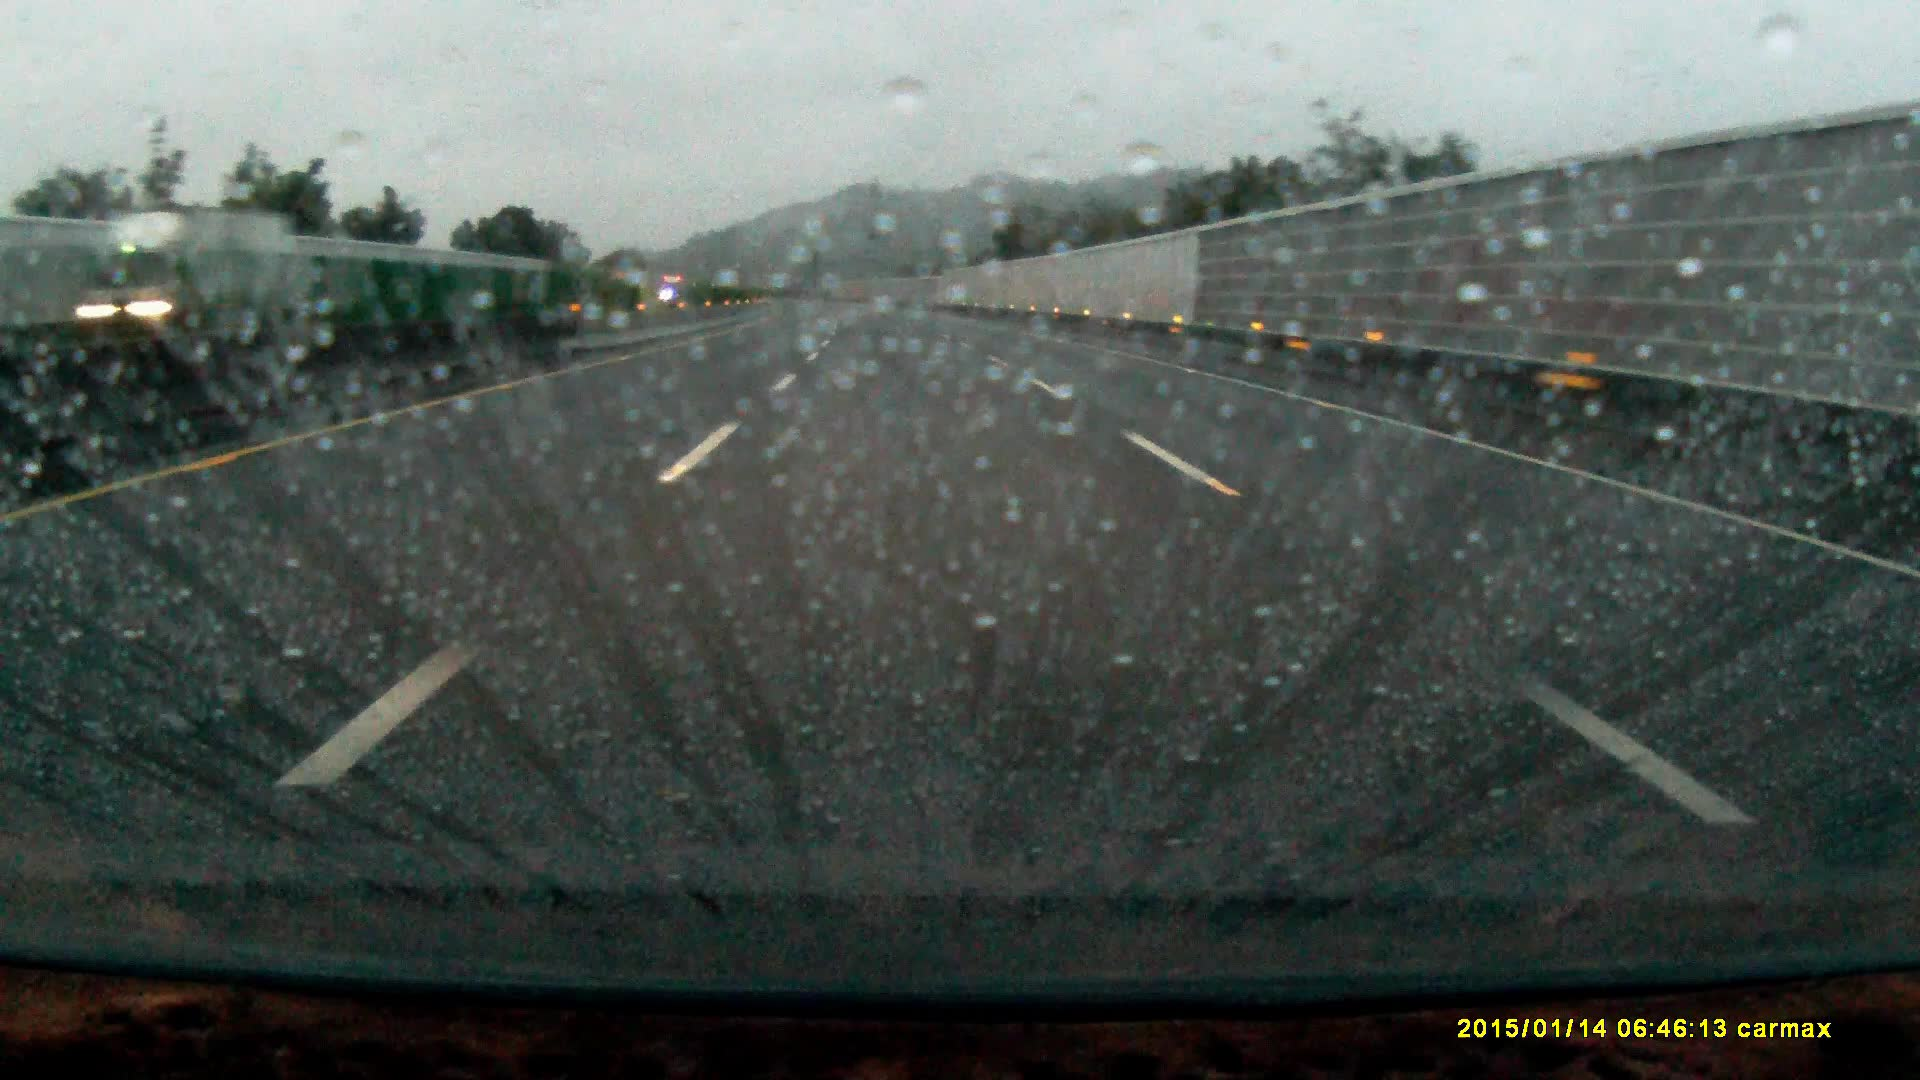vehicle: (44, 203, 287, 352)
